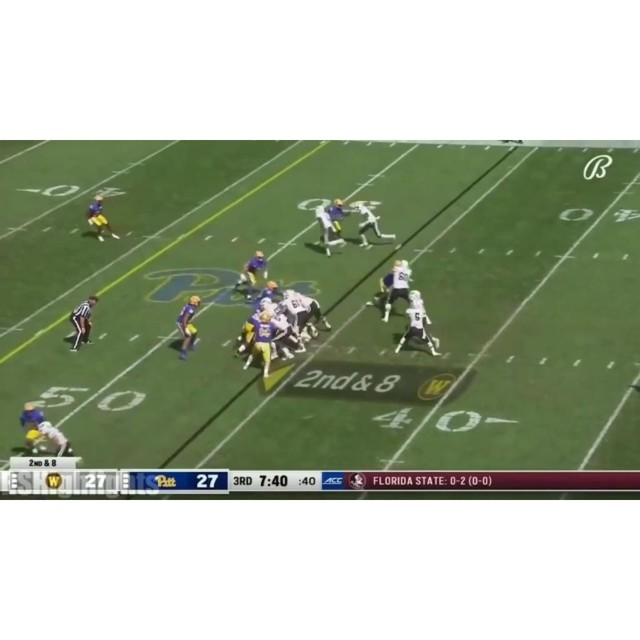american-football-player: (394, 291, 441, 359), (243, 313, 277, 379), (314, 198, 350, 257), (380, 260, 414, 322), (353, 201, 395, 249), (280, 291, 317, 344), (232, 250, 269, 301), (175, 296, 202, 360), (86, 193, 120, 242), (17, 402, 46, 456), (38, 420, 74, 458)
referee: (68, 294, 99, 353)
